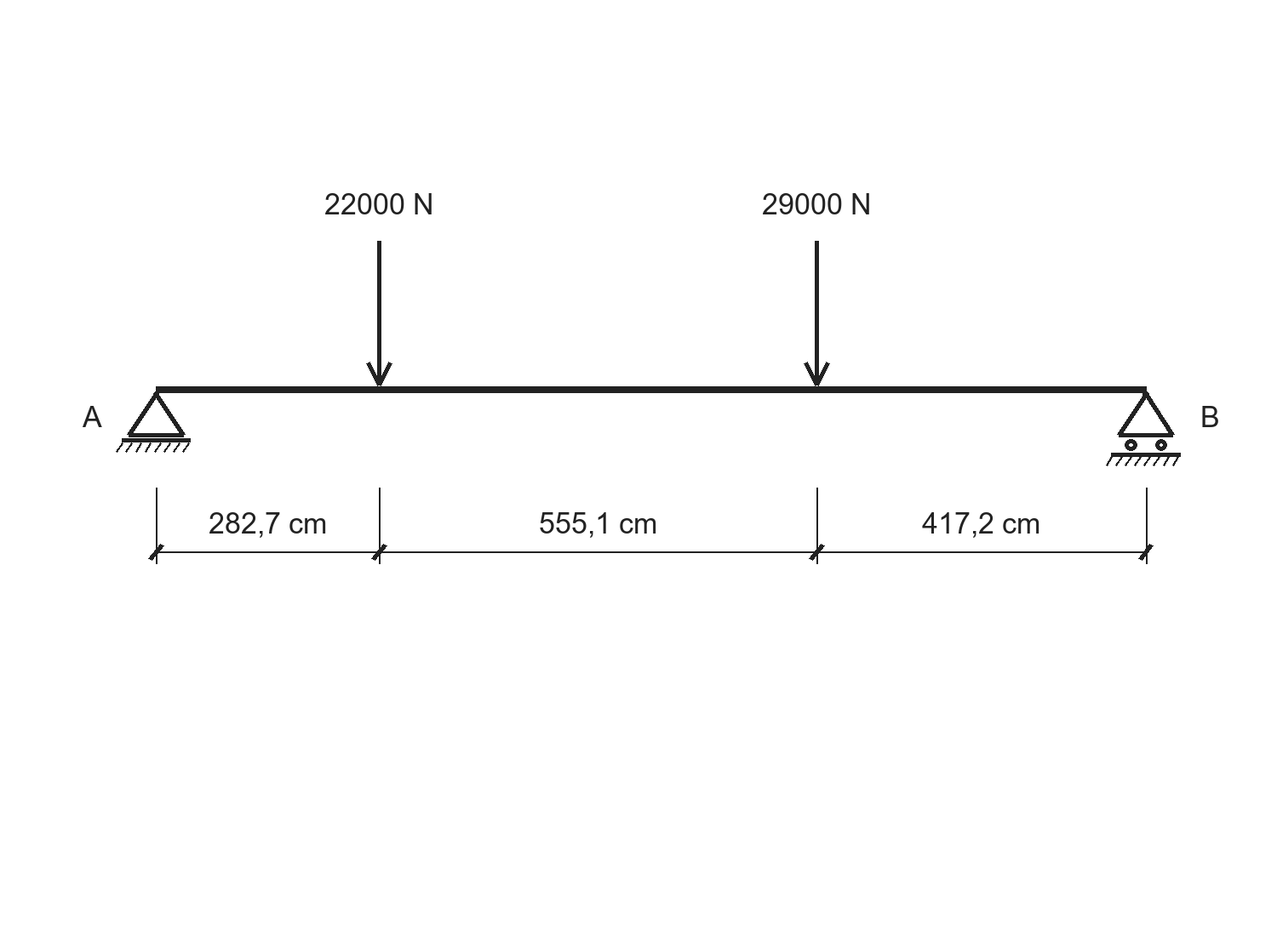pin_support: (116, 391, 191, 453)
point_load: (366, 241, 392, 386), (804, 241, 830, 386)
roller_support: (1106, 391, 1181, 466)
